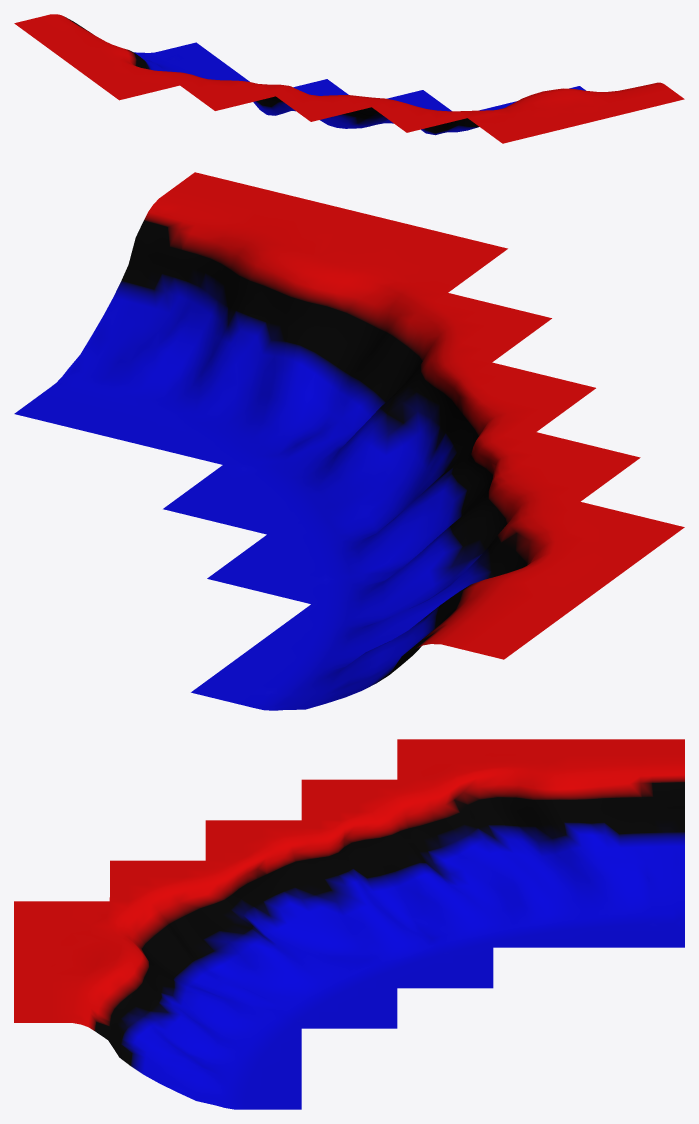
File: RiverBank05A Foreground.fbx
The picture shows the model from 3 angles, top to bottom: view 1: azimuth 30°, elevation 25°; view 2: azimuth 150°, elevation 25°; view 3: azimuth 270°, elevation 25°; orthographic projection. The views are drawn at different scales.
Parts seen in each view (by area): view 1: RiverBank05A Foreground; view 2: RiverBank05A Foreground; view 3: RiverBank05A Foreground.
Part boxes in pixels (bbox=[...]): RiverBank05A Foreground: bbox=[14, 14, 684, 143]; RiverBank05A Foreground: bbox=[14, 172, 684, 710]; RiverBank05A Foreground: bbox=[14, 739, 684, 1109].
Size of the model in its own units: 7 by 1.03 by 7.
